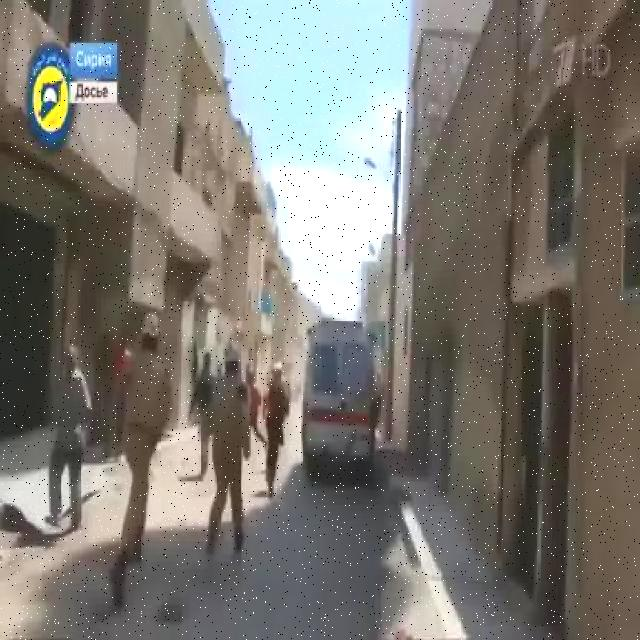Helmet: (140, 309, 162, 337), (222, 340, 240, 362)
